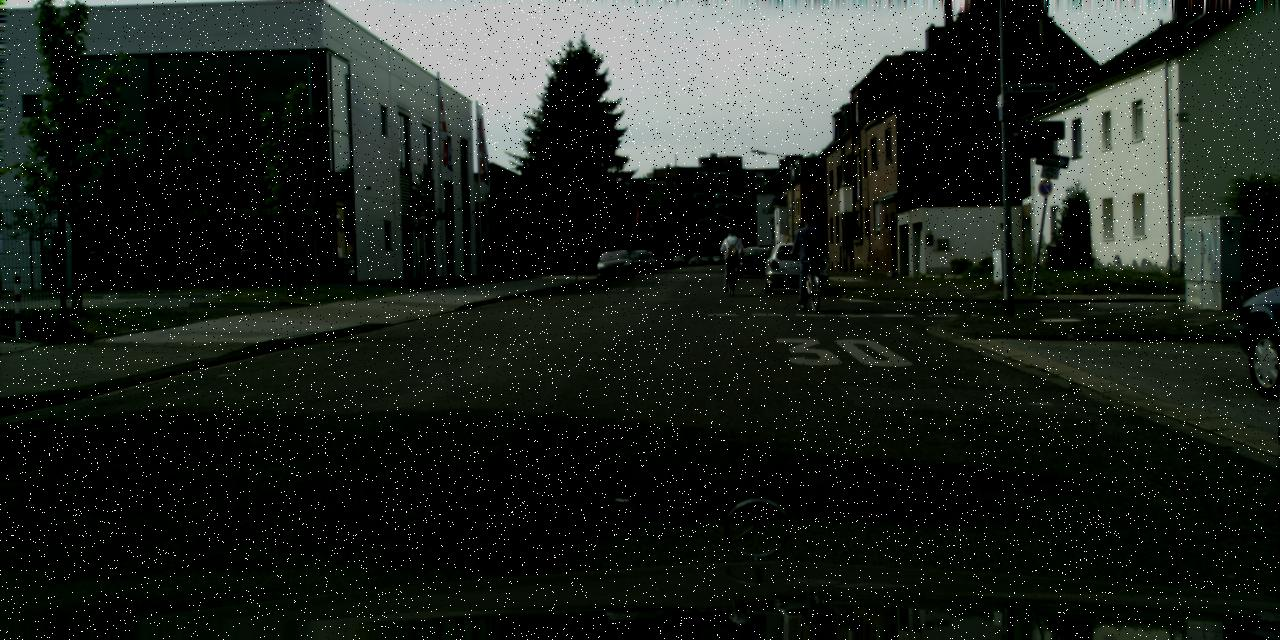ped: (792, 215, 826, 298), (720, 227, 744, 284)
